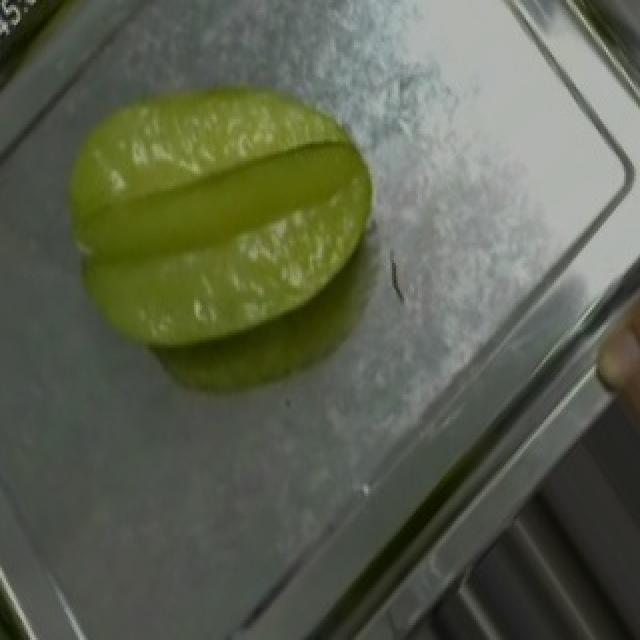fruit: (38, 0, 432, 417), (574, 231, 640, 514)
